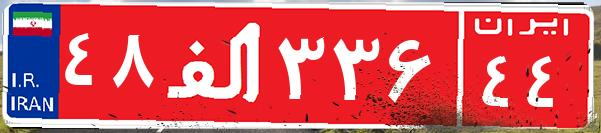3: (273, 28, 330, 110), (330, 28, 385, 110)
4: (57, 26, 110, 107), (475, 38, 525, 113), (525, 38, 570, 115)
6: (385, 28, 445, 110)
8: (110, 28, 158, 105)
الف: (158, 15, 273, 115)
